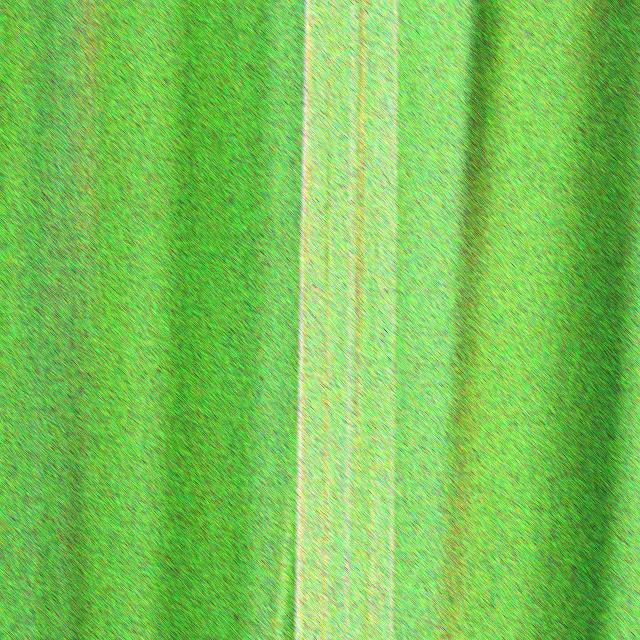BLS: (295, 0, 310, 640), (321, 50, 330, 640), (355, 0, 366, 449), (370, 203, 378, 640), (364, 432, 368, 640), (331, 456, 334, 640)
